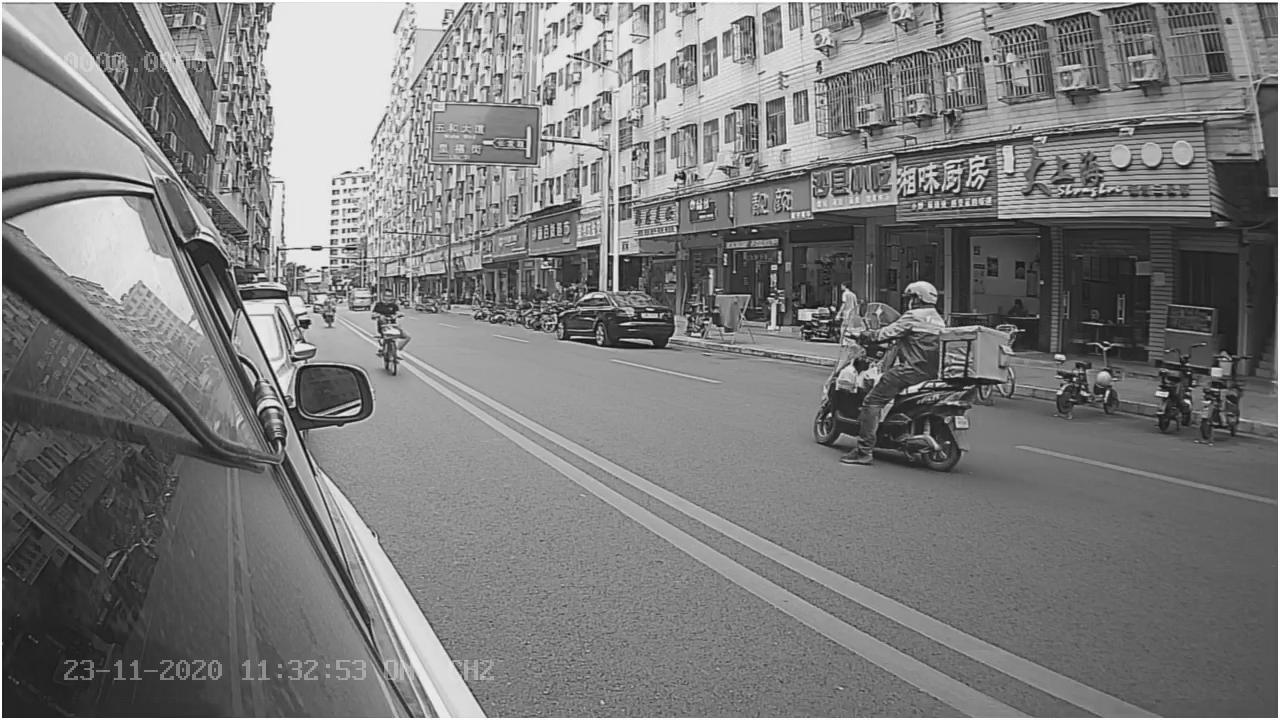person: (873, 276, 942, 377)
